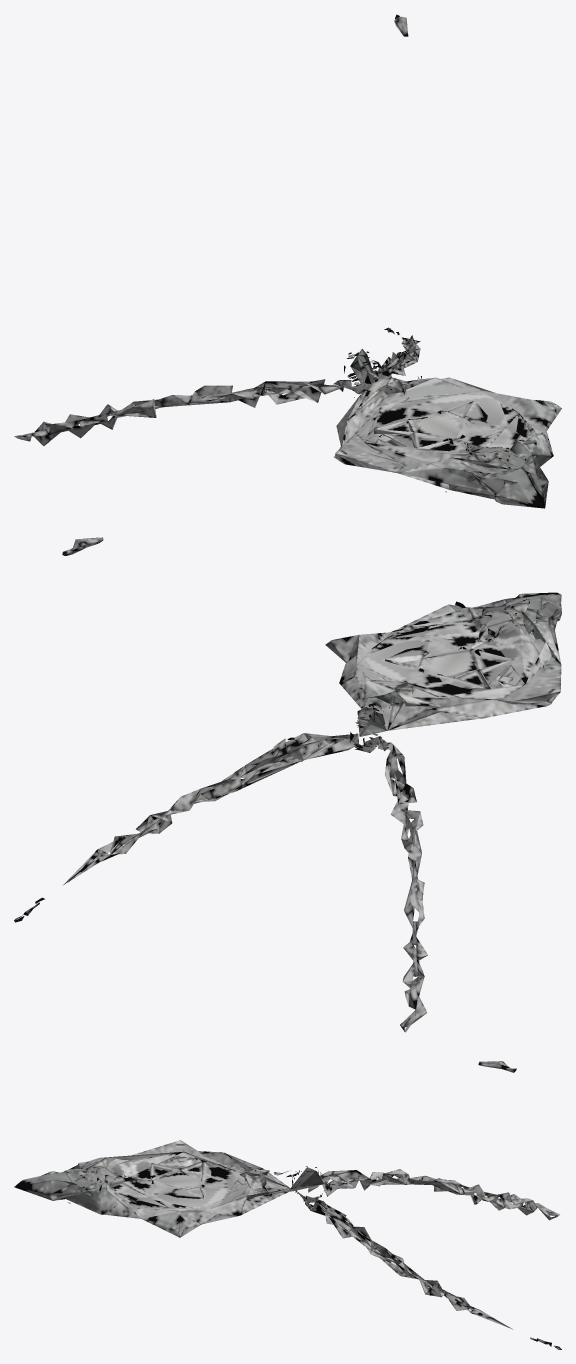
The model's file is medallion_necklace_LOD3.glb.
3 views of the same model, one above another, from view 1: azimuth 30°, elevation 25°; view 2: azimuth 150°, elevation 25°; view 3: azimuth 270°, elevation 25° (orthographic). The views are drawn at different scales.
Visible parts, largest first — view 1: medallion_necklace_LOD3; view 2: medallion_necklace_LOD3; view 3: medallion_necklace_LOD3.
Boxes of the visible parts, x1,y1,x2,y2 form: medallion_necklace_LOD3: (14, 14, 561, 508); medallion_necklace_LOD3: (14, 537, 561, 1032); medallion_necklace_LOD3: (14, 1061, 561, 1349).
Size of the model in its own units: 0.5651 by 0.5117 by 0.8648.
1 material, 1 textured.
